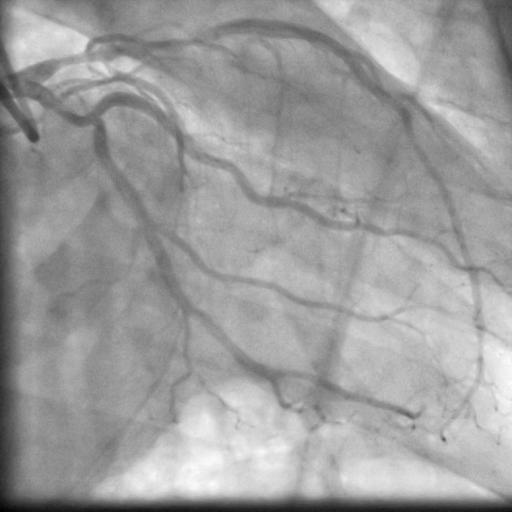Stenosis: (156, 27, 215, 45)
